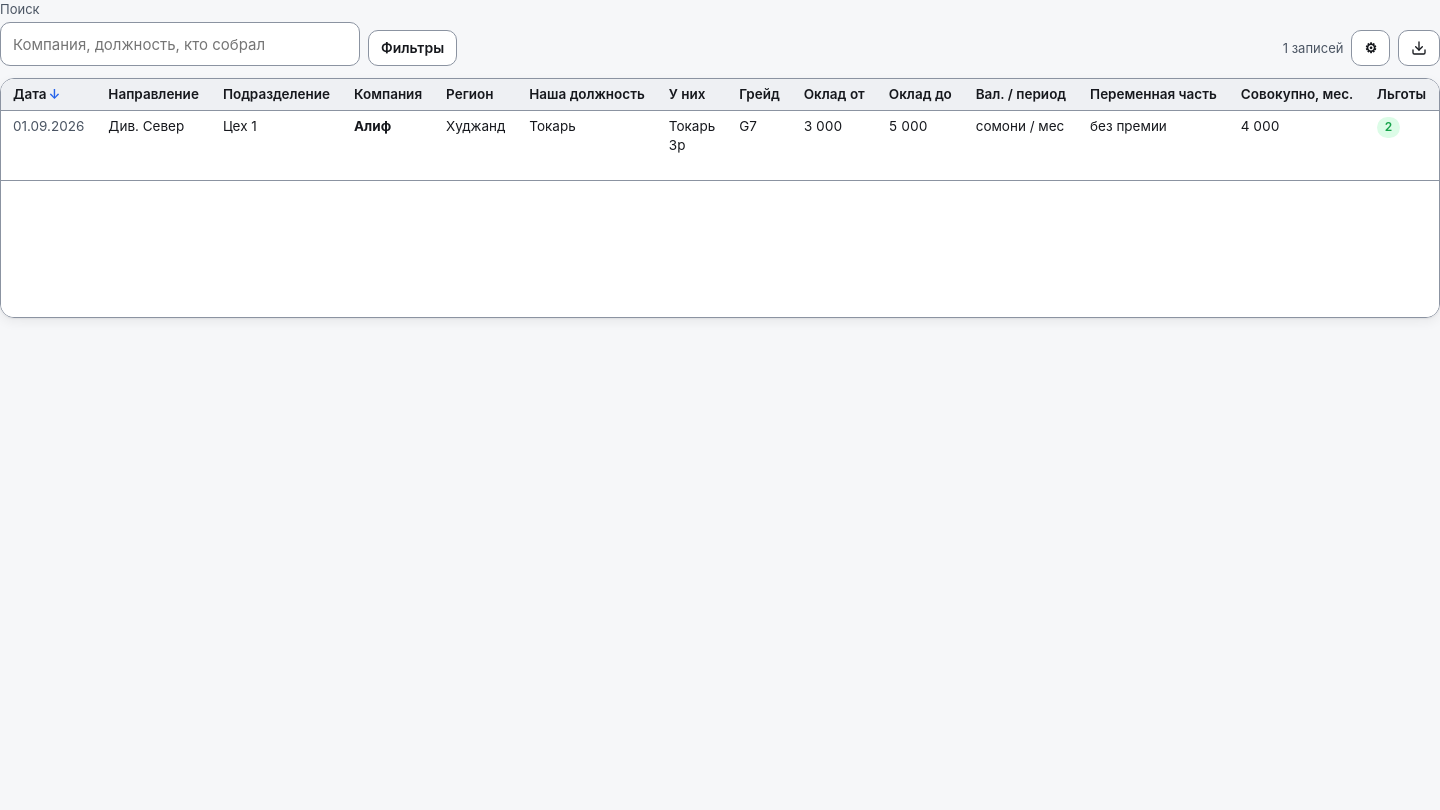
клик по строке открывает карточку наблюдения
Step 1. Click the cell "Алиф" → (388, 145), box [342,111,434,180]
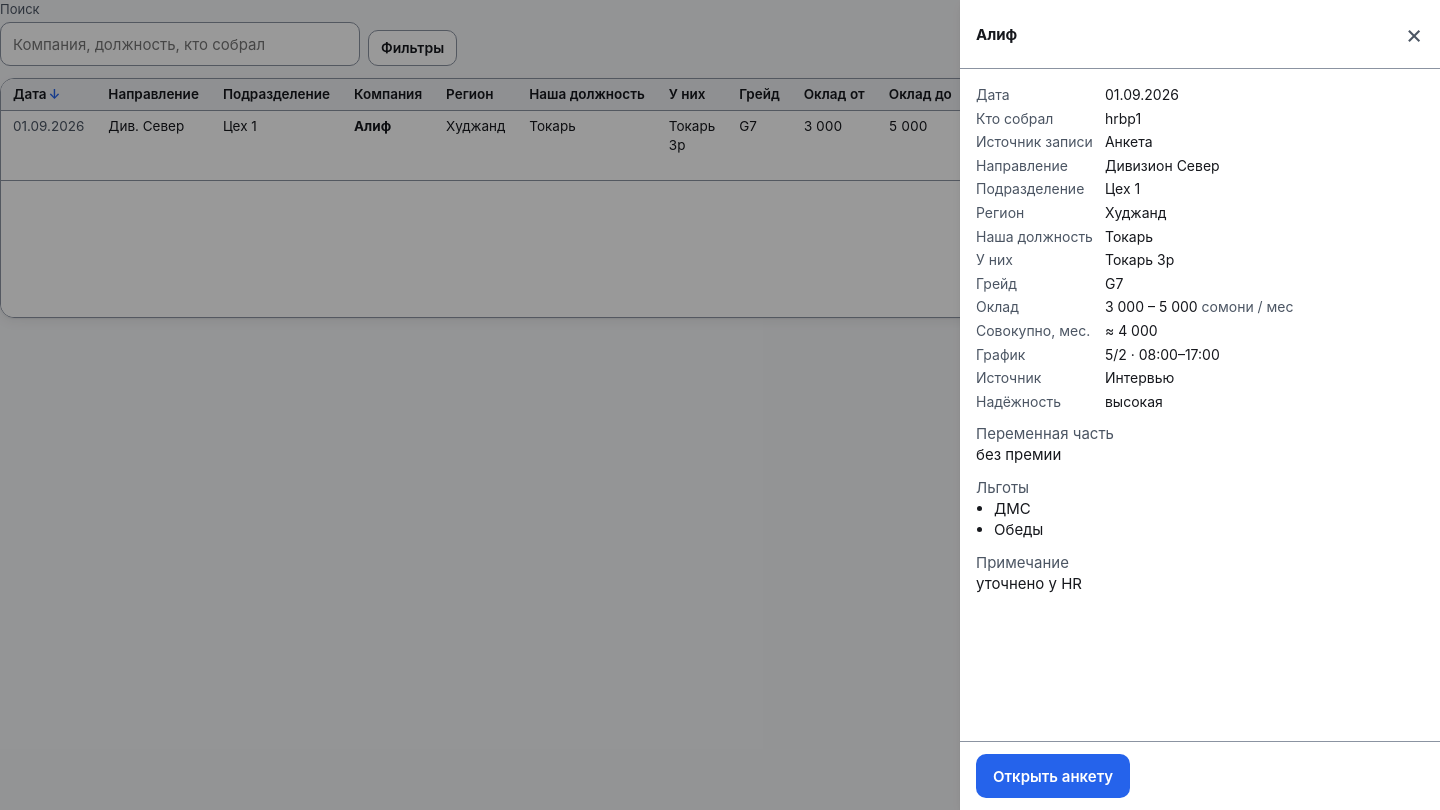
Expected: the text "уточнено у HR" is shown, [976,574,1082,593]
Expected: the list item "Обеды" is shown, [994,520,1043,539]
Step 2. Click the button named "Закрыть" → (1414, 34), box [1392,12,1436,56]
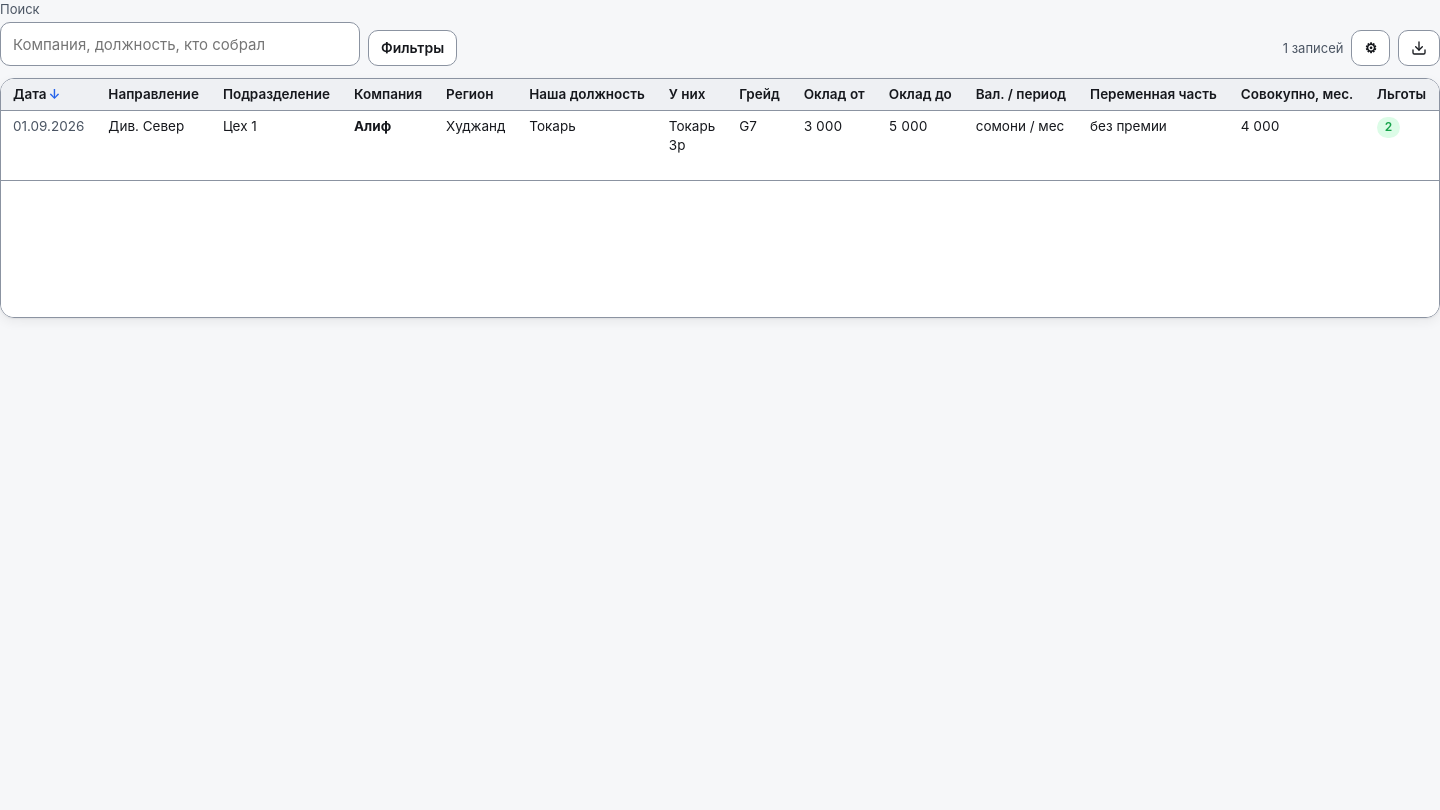
Expected: the dialog is gone
